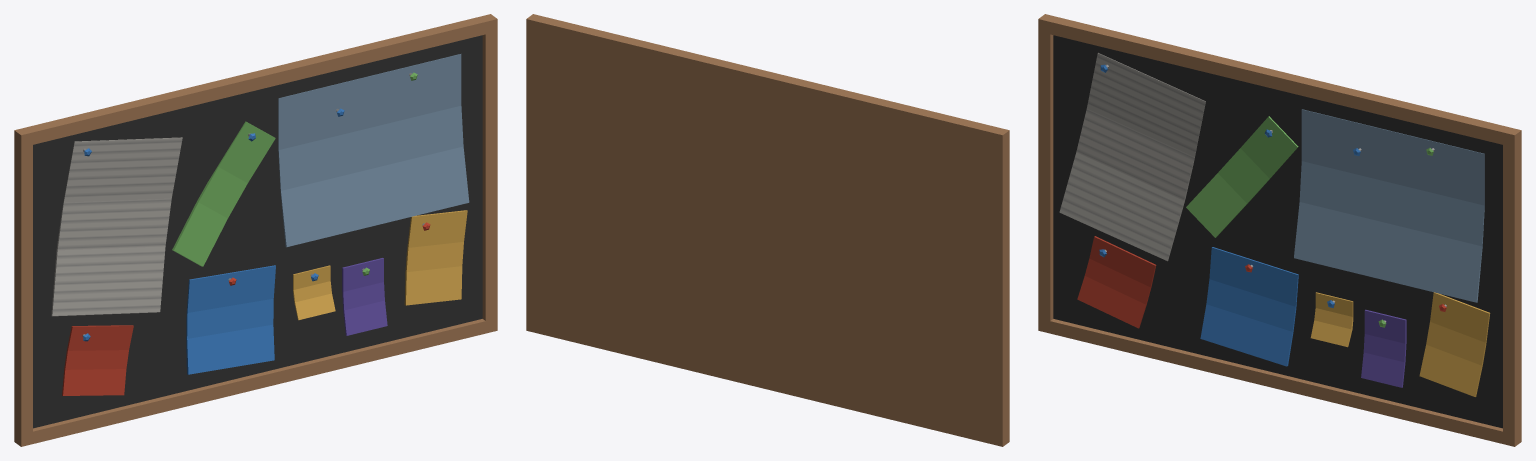
The model's file is Int_NotesBoard02_2.fbx.
3 views of the same model, side by side, from view 1: azimuth 30°, elevation 25°; view 2: azimuth 150°, elevation 25°; view 3: azimuth 330°, elevation 25° (orthographic).
Parts seen in each view (by area): view 1: Int_NotesBoard02_2; view 2: Int_NotesBoard02_2; view 3: Int_NotesBoard02_2.
Part boxes in pixels (box(x1,y1,x2,y2)): Int_NotesBoard02_2: box(14, 14, 497, 446); Int_NotesBoard02_2: box(526, 14, 1009, 446); Int_NotesBoard02_2: box(1038, 14, 1521, 446).
Size of what is drawn, in the model's own units: 161 by 6.95 by 100.
